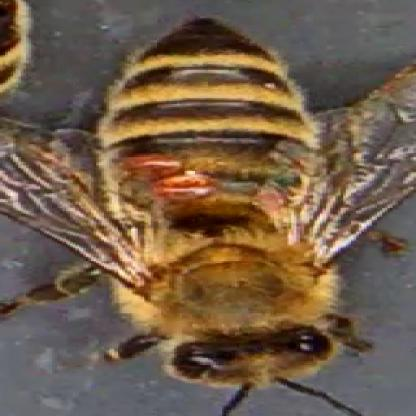bee: (113, 17, 346, 390)
vaoora: (153, 176, 215, 200), (127, 153, 176, 174)
